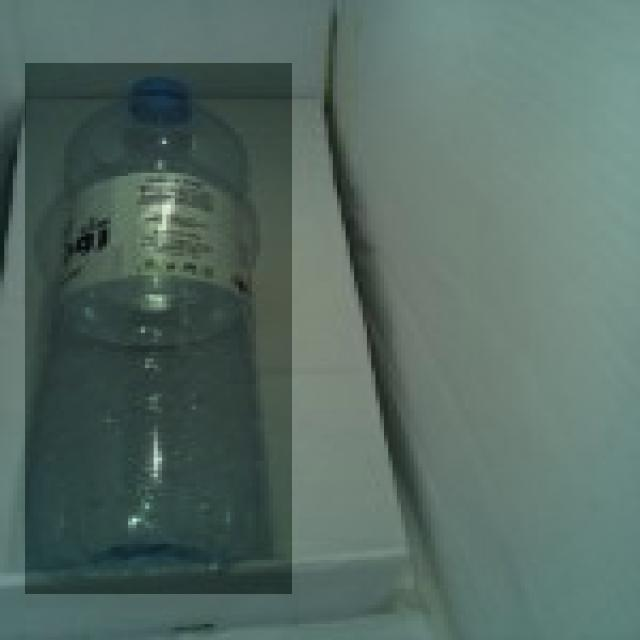BIODEGRADABLE: (25, 63, 292, 594)
